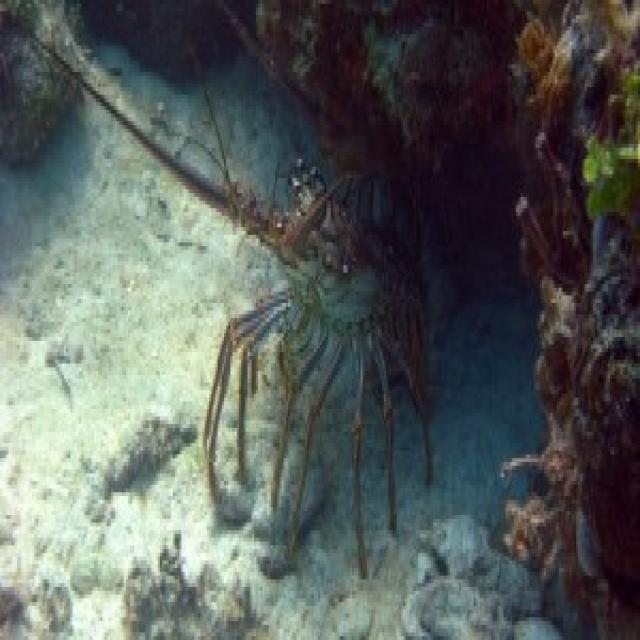lobsters: (65, 51, 491, 578)
